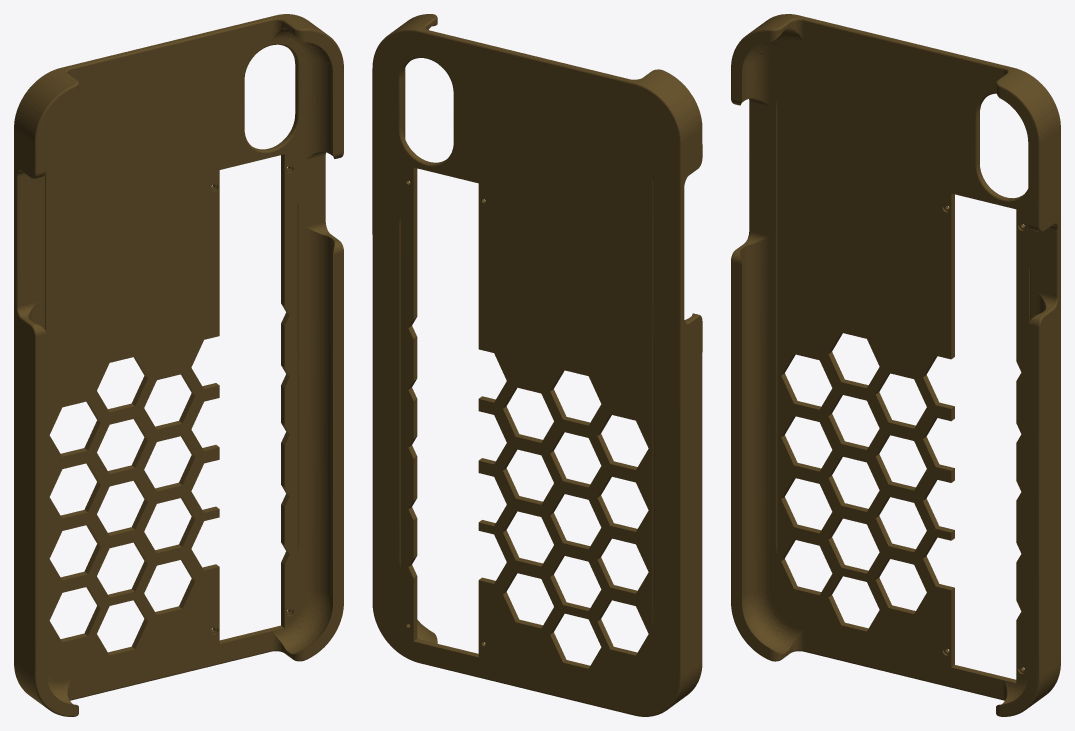
File: iphone-xr-case.gltf
The picture shows the model from 3 angles, left to right: view 1: azimuth 30°, elevation 25°; view 2: azimuth 150°, elevation 25°; view 3: azimuth 330°, elevation 25°; orthographic projection.
Parts seen in each view (by area): view 1: Xr-Honeycomb; view 2: Xr-Honeycomb; view 3: Xr-Honeycomb.
Boxes of the visible parts, bbox=[...] form: Xr-Honeycomb: bbox=[14, 14, 343, 716]; Xr-Honeycomb: bbox=[372, 14, 702, 716]; Xr-Honeycomb: bbox=[731, 14, 1060, 716].
Bounding box in the file's own units: 7.86 × 15.36 × 0.96.
